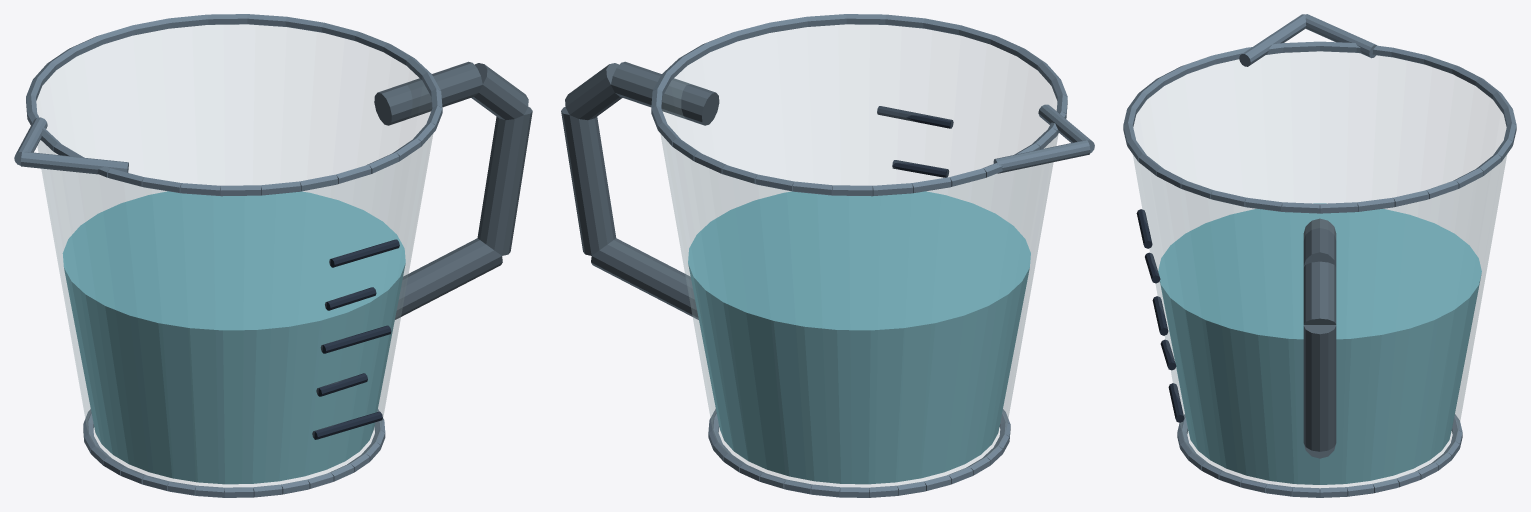
File: jug.glb
3 renders of one model, left to right at view 1: azimuth 30°, elevation 25°; view 2: azimuth 150°, elevation 25°; view 3: azimuth 270°, elevation 25°, orthographic. The views are drawn at different scales.
Parts seen in each view (by area): view 1: glass wall, liquid, handle2, handle3, handle0, handle1, pour lip0, tick 4, tick 2, tick 0, pour lip1; view 2: glass wall, liquid, handle2, handle3, handle0, handle1, pour lip1, pour lip0, tick 4; view 3: glass wall, liquid, handle2, handle1, handle0, pour lip0, pour lip1.
Boxes of the visible parts, bbox=[...] form: glass wall: bbox=[37, 25, 432, 487]; liquid: bbox=[62, 191, 405, 484]; handle2: bbox=[477, 107, 532, 255]; handle3: bbox=[395, 238, 502, 319]; handle0: bbox=[374, 61, 482, 125]; handle1: bbox=[471, 63, 528, 120]; pour lip0: bbox=[20, 151, 128, 174]; tick 4: bbox=[329, 239, 399, 267]; tick 2: bbox=[320, 325, 391, 353]; tick 0: bbox=[312, 411, 382, 439]; pour lip1: bbox=[14, 117, 47, 165]; glass wall: bbox=[660, 25, 1058, 487]; liquid: bbox=[688, 191, 1030, 484]; handle2: bbox=[561, 106, 616, 255]; handle3: bbox=[591, 238, 698, 319]; handle0: bbox=[611, 61, 719, 125]; handle1: bbox=[565, 63, 622, 120]; pour lip1: bbox=[993, 140, 1090, 173]; pour lip0: bbox=[1038, 104, 1094, 152]; tick 4: bbox=[877, 106, 953, 128]; glass wall: bbox=[1133, 52, 1506, 488]; liquid: bbox=[1158, 203, 1481, 484]; handle2: bbox=[1303, 325, 1336, 451]; handle1: bbox=[1303, 261, 1336, 324]; handle0: bbox=[1303, 218, 1336, 266]; pour lip0: bbox=[1239, 14, 1306, 66]; pour lip1: bbox=[1305, 14, 1376, 58].
Bounding box in the file's own units: 1.89 × 1.19 × 1.31.
